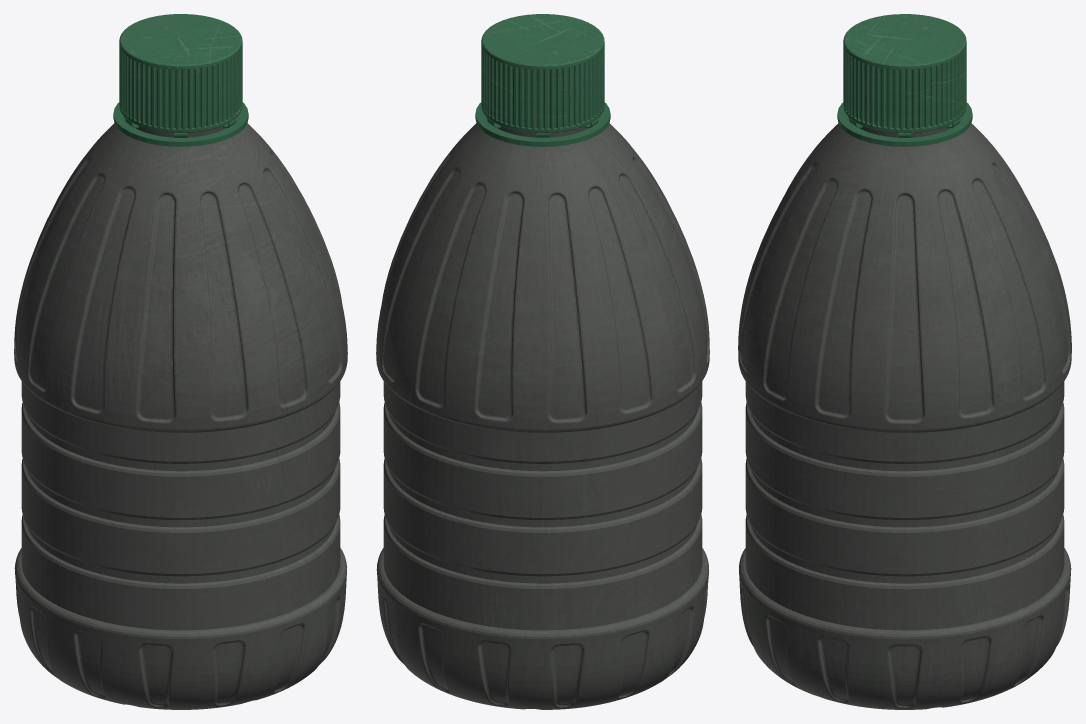
3 renders of one model, left to right at view 1: azimuth 30°, elevation 25°; view 2: azimuth 150°, elevation 25°; view 3: azimuth 270°, elevation 25°, orthographic.
Size of the model in its own units: 0.1229 by 0.25 by 0.123.
Materials: 1 (1 with a texture image).
